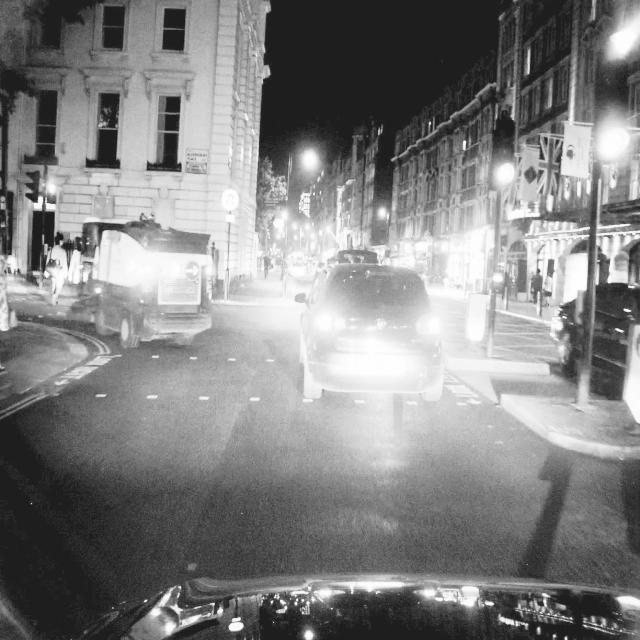Car: (293, 255, 447, 413)
Light: (598, 61, 630, 163), (496, 119, 514, 185), (25, 170, 37, 202), (47, 183, 56, 203)
